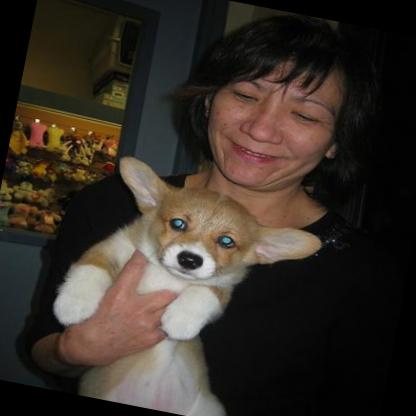Pembroke: (31, 144, 327, 416)
